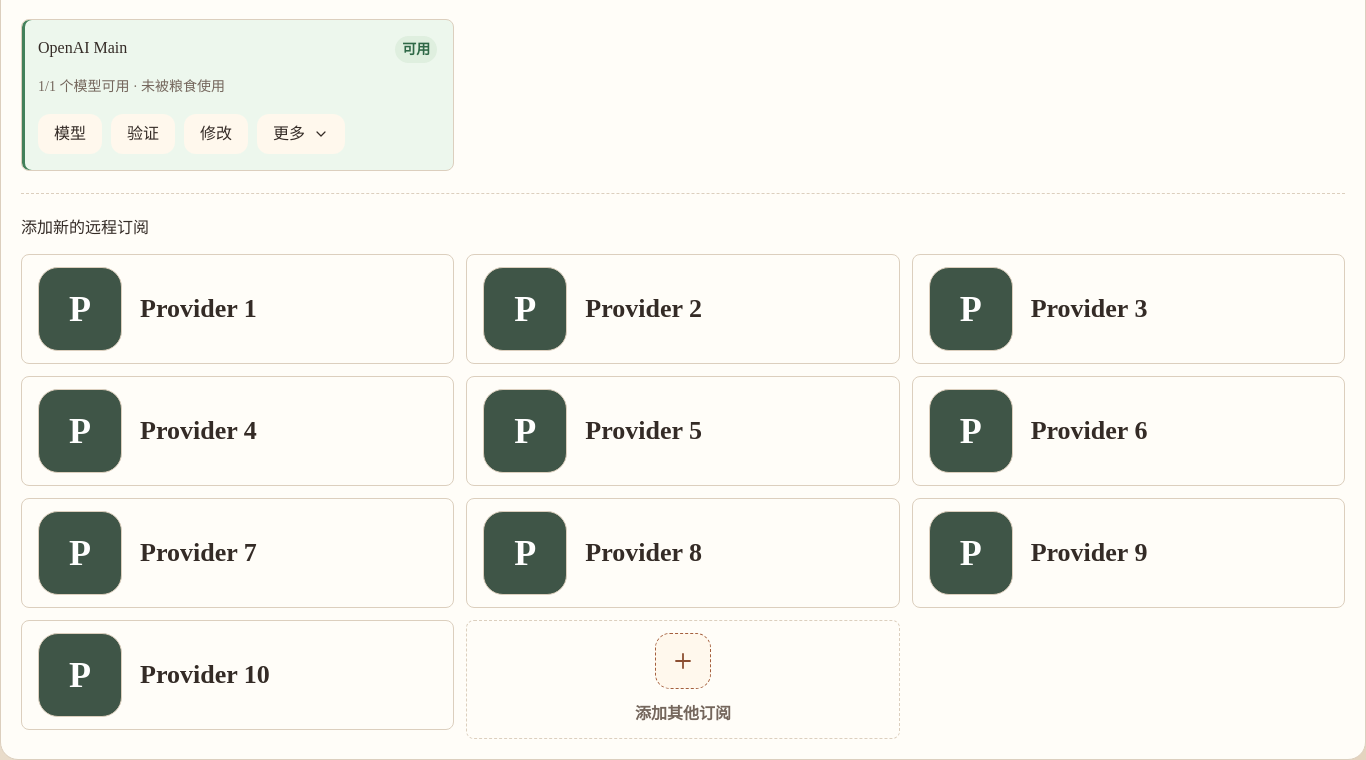
Test case: OwnerProviderPanel v2 behavior › pins custom interfaces above the non-featured provider list
(page scrolled)
Expected: the button with aria-label "配置 Provider 1" is shown, [21,254,454,364]
Click the button "添加其他订阅": (683,680) [466,620,900,739]
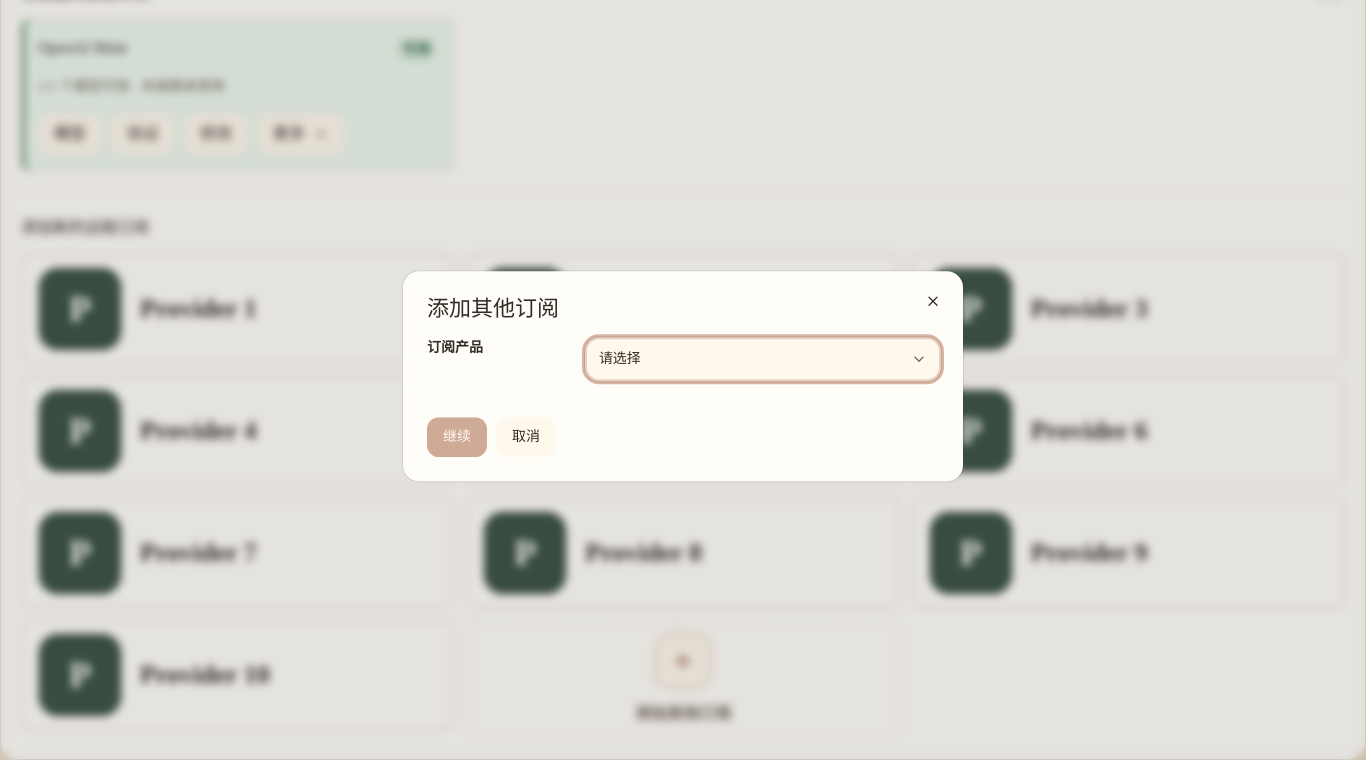
Click the dropdown named "订阅产品": (620,358) [587,339,939,379]
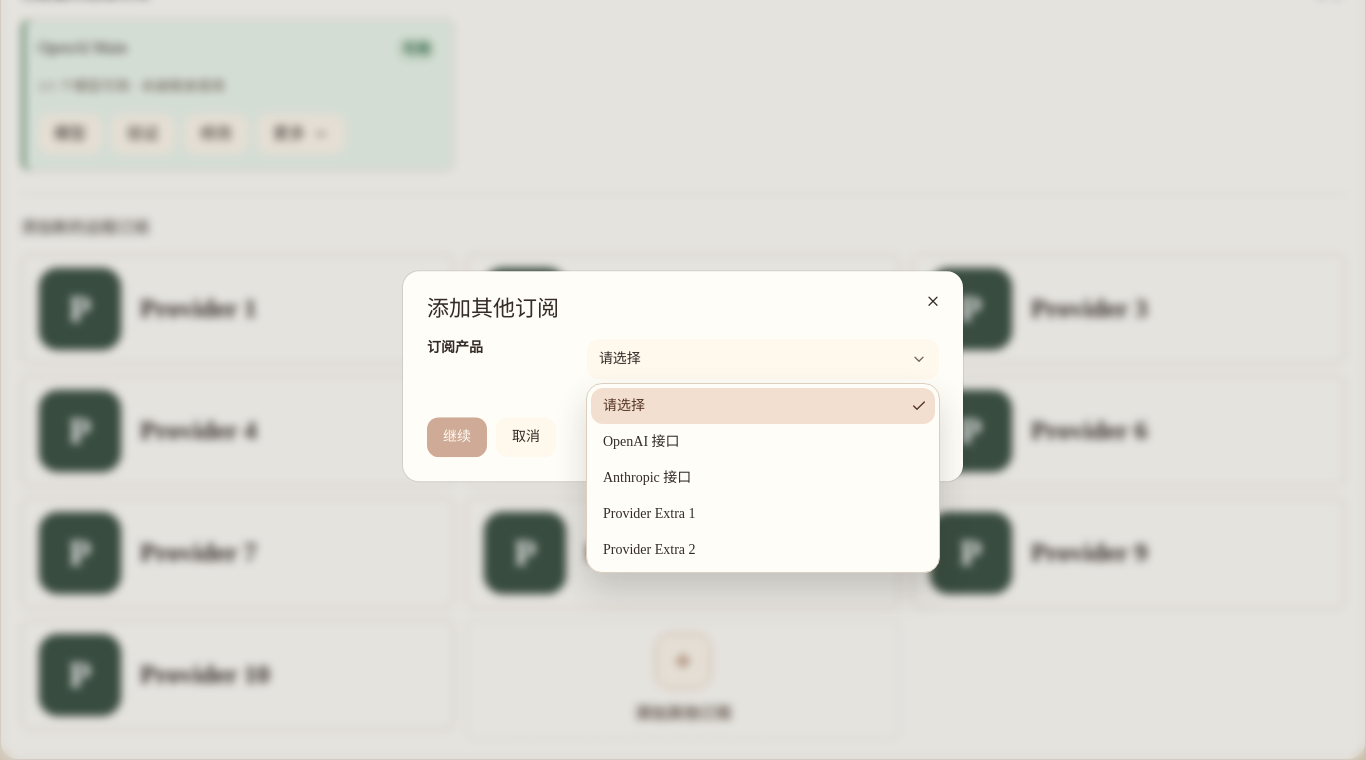
Now the option "Provider Extra 1" is shown, box [603,506,696,521]
Now the option "Provider Extra 2" is shown, box [603,542,696,557]
Now the option "OpenAI 接口" is shown, box [603,434,680,449]
